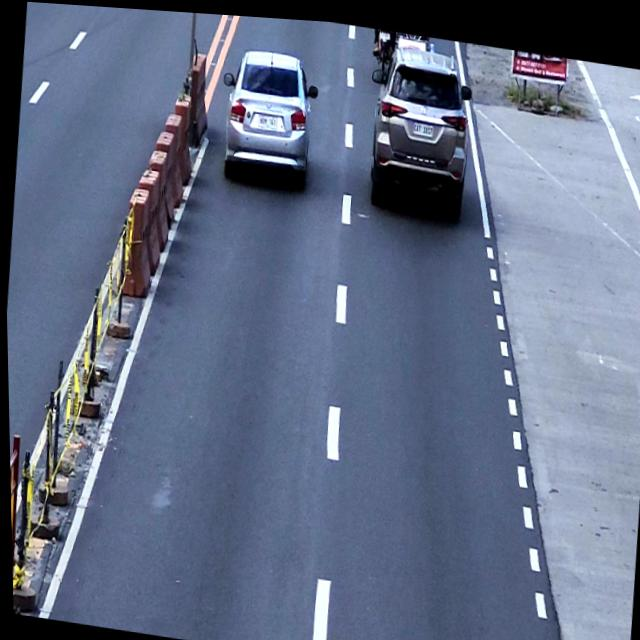Car: (359, 28, 478, 214), (213, 39, 322, 186)
License-Plate: (255, 108, 277, 126), (411, 115, 434, 132), (377, 26, 390, 35)
Tricycle: (370, 23, 435, 77)
